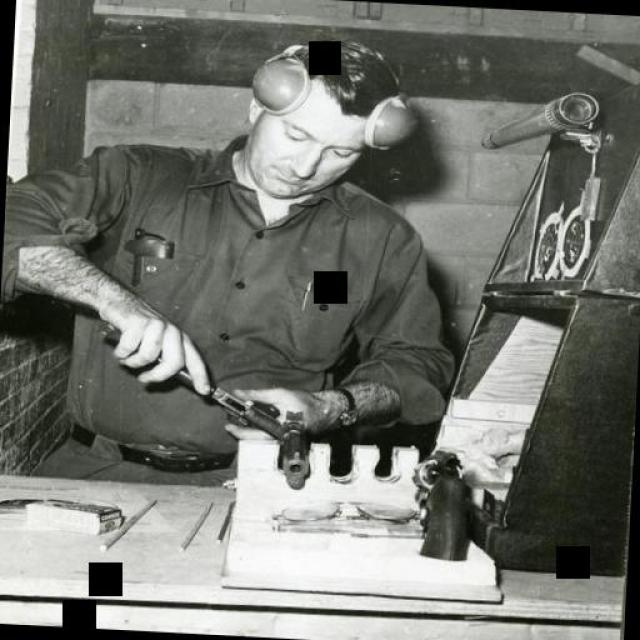gun: (99, 322, 278, 433), (404, 441, 480, 565), (268, 403, 318, 495)
